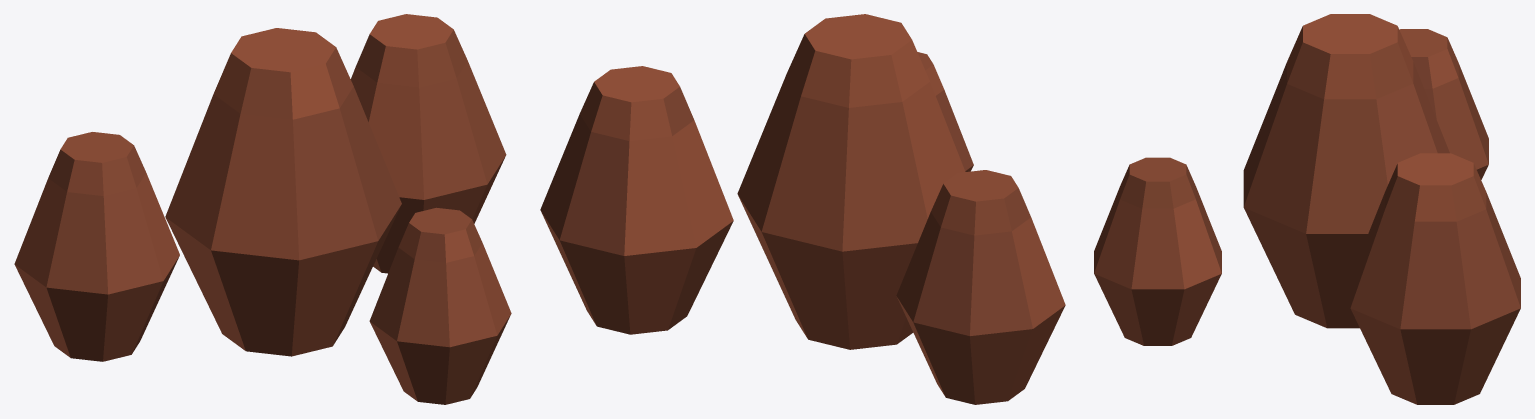
The model's file is walk_prop_pots.glb.
3 renders of one model, left to right at view 1: azimuth 30°, elevation 25°; view 2: azimuth 150°, elevation 25°; view 3: azimuth 270°, elevation 25°, orthographic. The views are drawn at different scales.
Parts seen in each view (by area): view 1: walk_prop_pots; view 2: walk_prop_pots; view 3: walk_prop_pots.
Part boxes in pixels (x1,y1,x2,y2): walk_prop_pots: [14, 14, 511, 404]; walk_prop_pots: [540, 14, 1065, 404]; walk_prop_pots: [1094, 14, 1520, 404].
Size of the model in its own units: 1.22 by 0.7 by 0.9992.
Materials: 1 (1 with a texture image).
